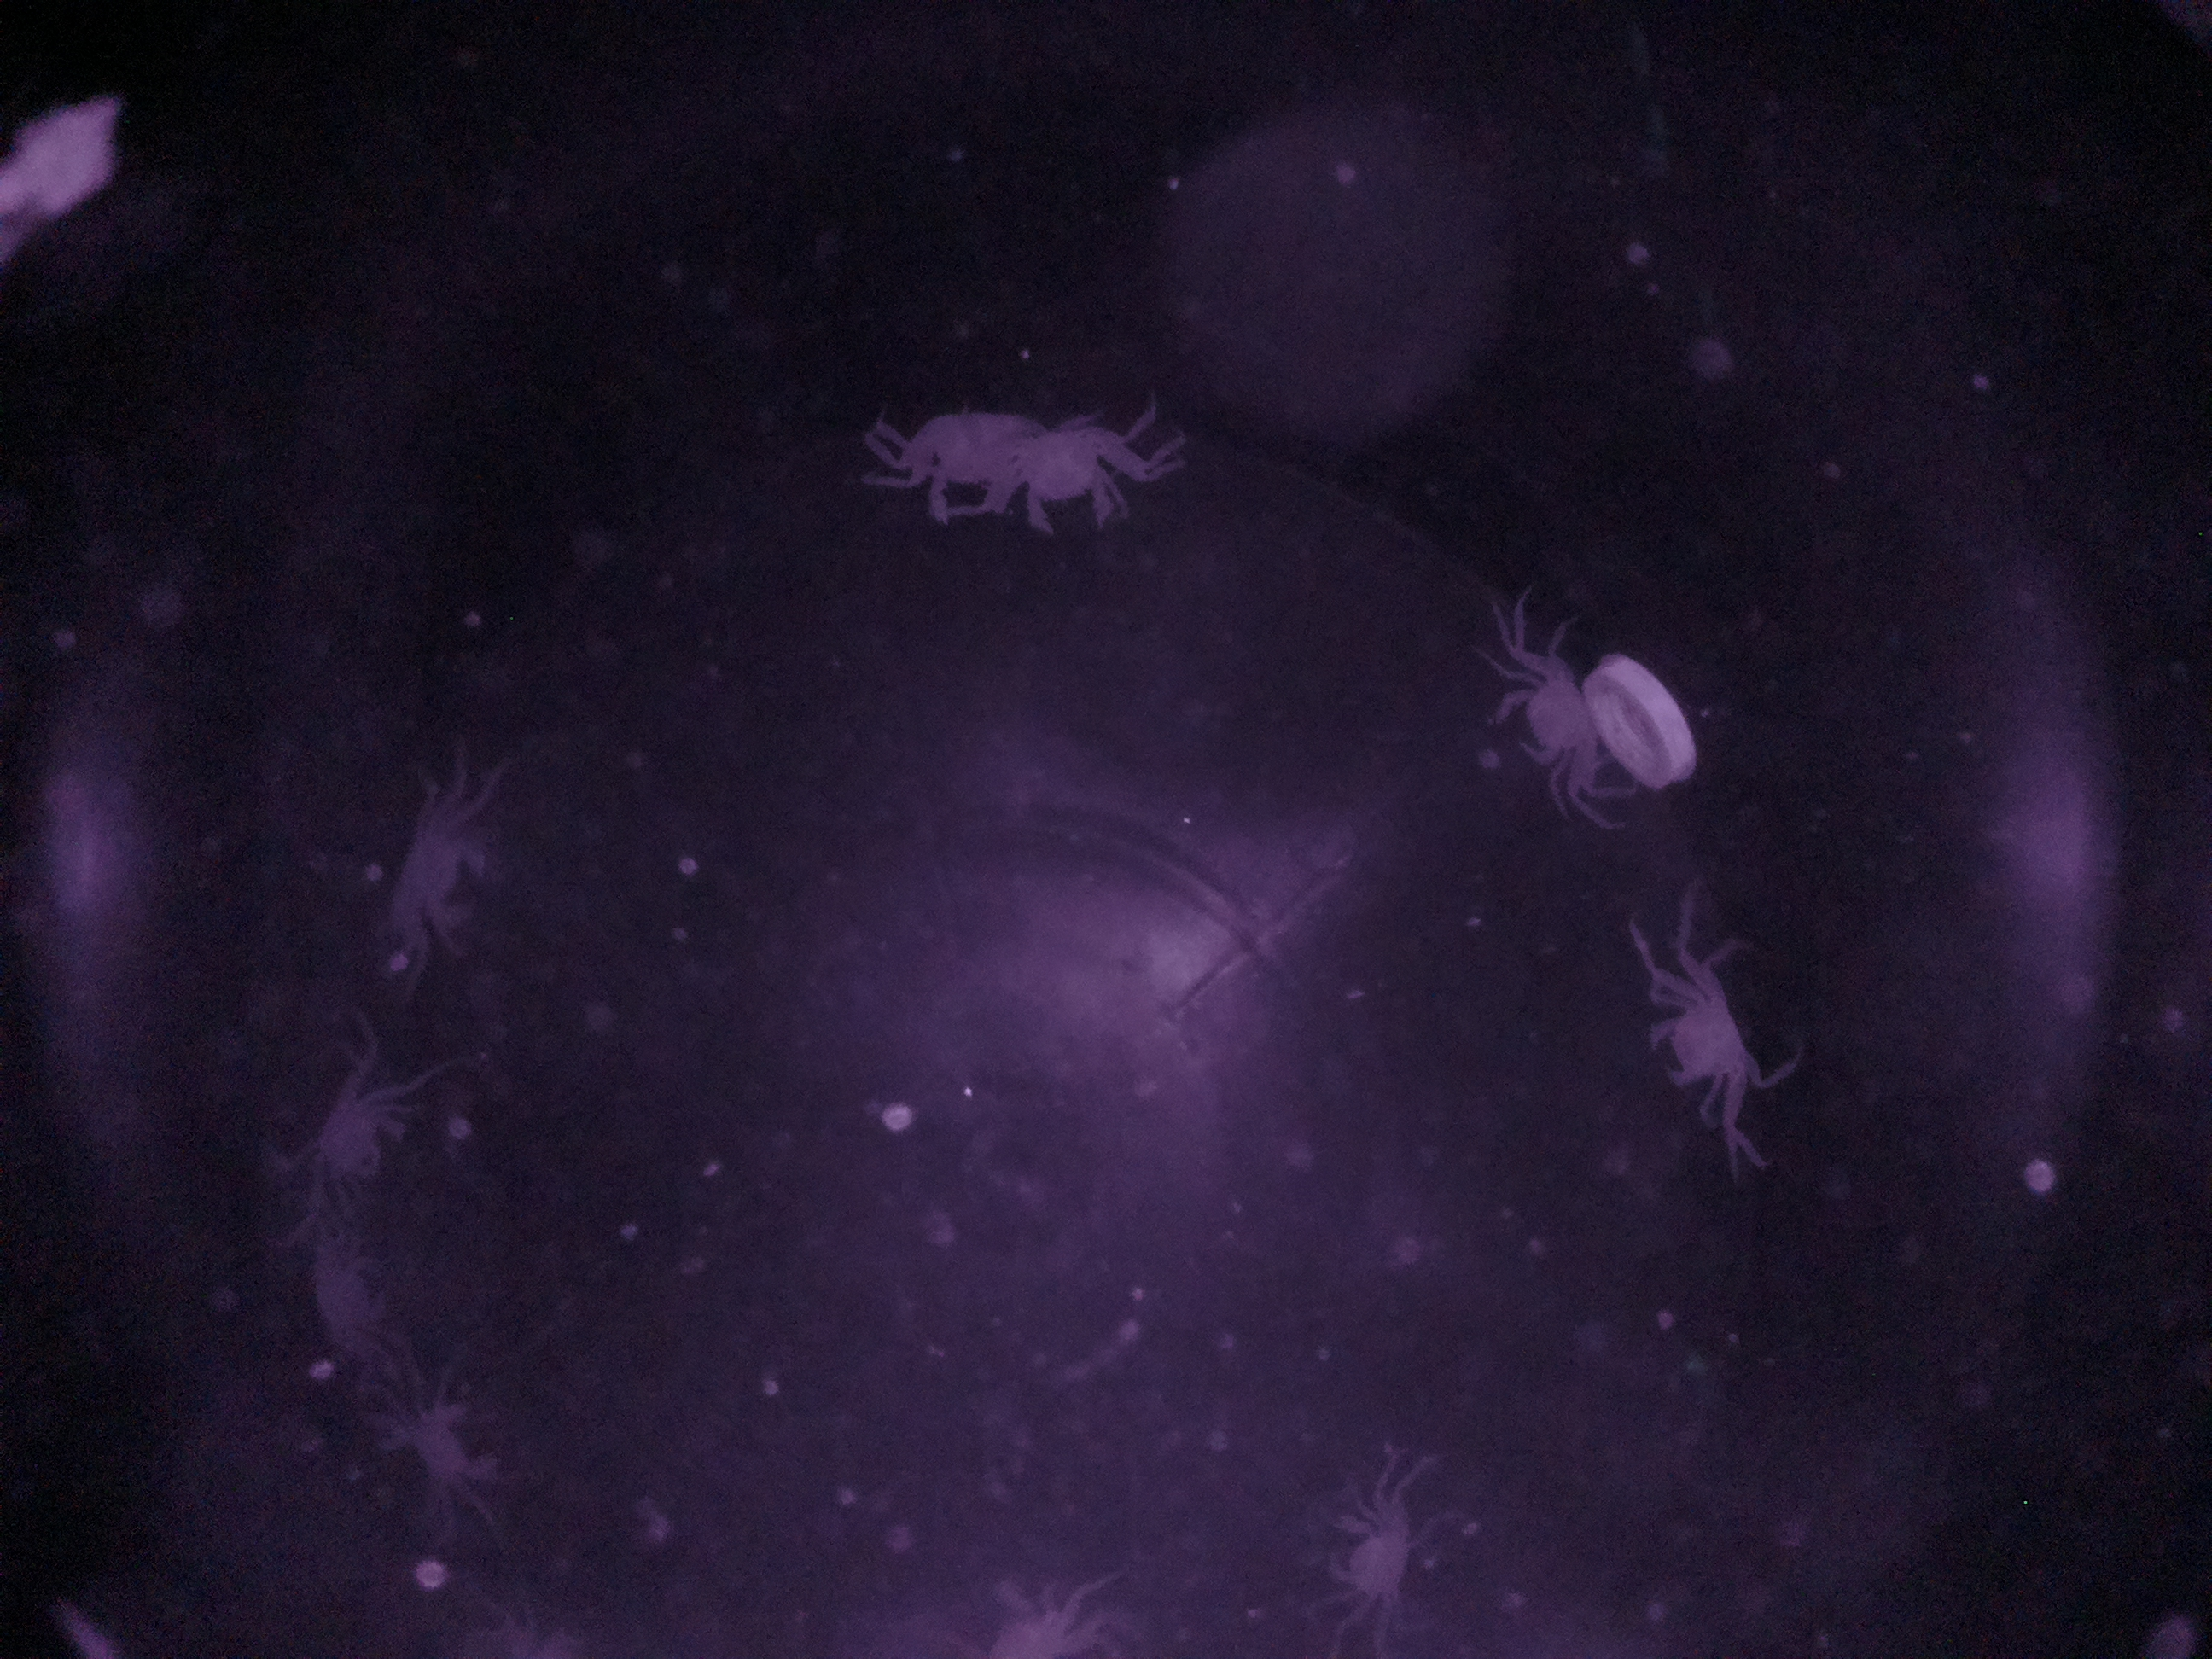Crab: (1634, 946, 1787, 1152), (371, 791, 510, 974), (1301, 1471, 1432, 1624)
